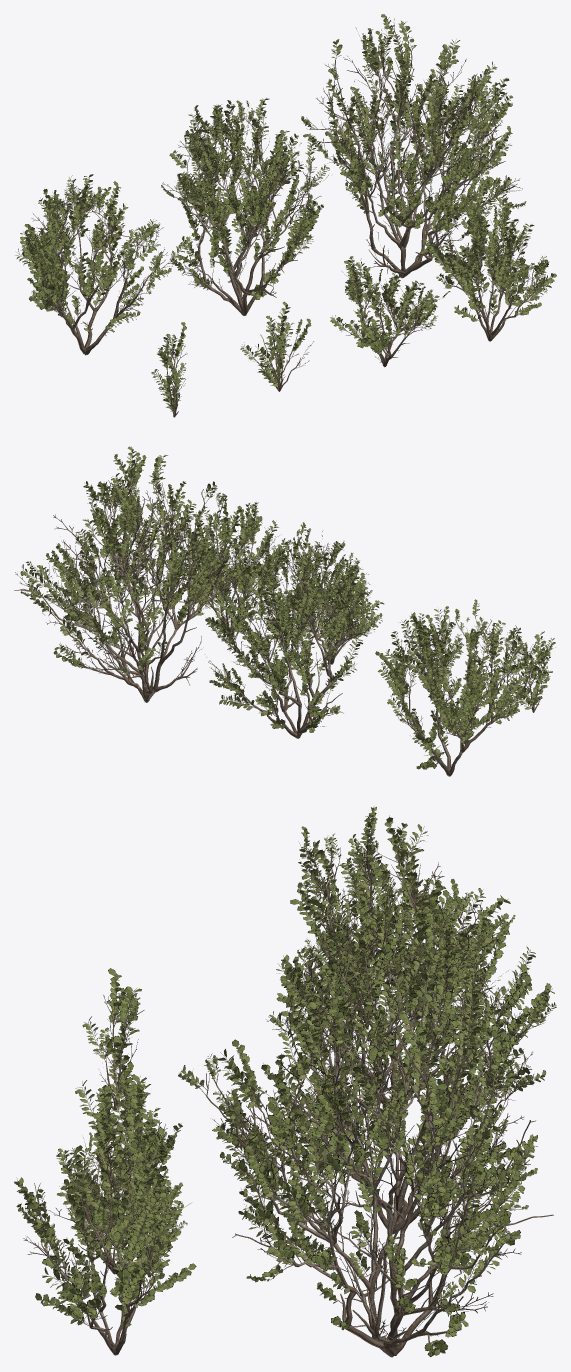
Rendered from searsia_lucida.gltf.
The picture shows the model from 3 angles, top to bottom: view 1: azimuth 30°, elevation 25°; view 2: azimuth 150°, elevation 25°; view 3: azimuth 270°, elevation 25°; orthographic projection. The views are drawn at different scales.
Parts seen in each view (by area): view 1: searsia_lucida_a_LOD0, searsia_lucida_b_LOD0, searsia_lucida_c_LOD0, searsia_lucida_d_LOD0, searsia_lucida_e_LOD0, searsia_lucida_f_LOD0, searsia_lucida_g_LOD0; view 2: searsia_lucida_a_LOD0, searsia_lucida_b_LOD0, searsia_lucida_c_LOD0, searsia_lucida_d_LOD0, searsia_lucida_e_LOD0, searsia_lucida_g_LOD0, searsia_lucida_f_LOD0; view 3: searsia_lucida_a_LOD0, searsia_lucida_b_LOD0, searsia_lucida_d_LOD0, searsia_lucida_c_LOD0, searsia_lucida_e_LOD0, searsia_lucida_g_LOD0, searsia_lucida_f_LOD0.
Boxes of the visible parts, x1,y1,x2,y2 form: searsia_lucida_a_LOD0: [301, 14, 526, 278]; searsia_lucida_b_LOD0: [161, 98, 329, 315]; searsia_lucida_c_LOD0: [15, 174, 196, 355]; searsia_lucida_d_LOD0: [422, 179, 556, 341]; searsia_lucida_e_LOD0: [330, 256, 450, 367]; searsia_lucida_f_LOD0: [240, 301, 313, 391]; searsia_lucida_g_LOD0: [151, 322, 187, 417]; searsia_lucida_a_LOD0: [14, 446, 268, 702]; searsia_lucida_b_LOD0: [205, 522, 372, 738]; searsia_lucida_c_LOD0: [375, 599, 555, 776]; searsia_lucida_d_LOD0: [176, 494, 294, 636]; searsia_lucida_e_LOD0: [283, 566, 384, 664]; searsia_lucida_g_LOD0: [509, 630, 552, 712]; searsia_lucida_f_LOD0: [400, 612, 463, 682]; searsia_lucida_a_LOD0: [178, 951, 553, 1357]; searsia_lucida_b_LOD0: [266, 877, 556, 1234]; searsia_lucida_d_LOD0: [14, 1107, 196, 1355]; searsia_lucida_c_LOD0: [276, 807, 515, 1111]; searsia_lucida_e_LOD0: [48, 1071, 182, 1274]; searsia_lucida_g_LOD0: [82, 968, 144, 1109]; searsia_lucida_f_LOD0: [75, 1076, 164, 1191].
Size of the model in its own units: 4.78 by 2.34 by 2.84.
3 materials, 3 textured.
